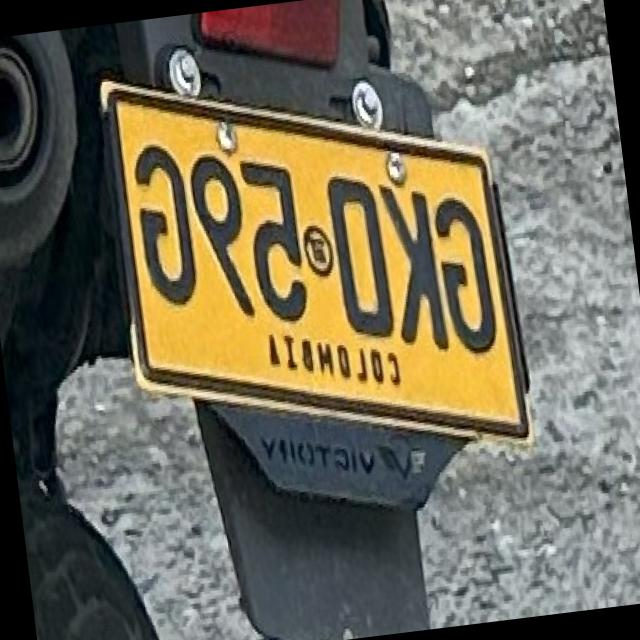number plate: (103, 79, 531, 433)
